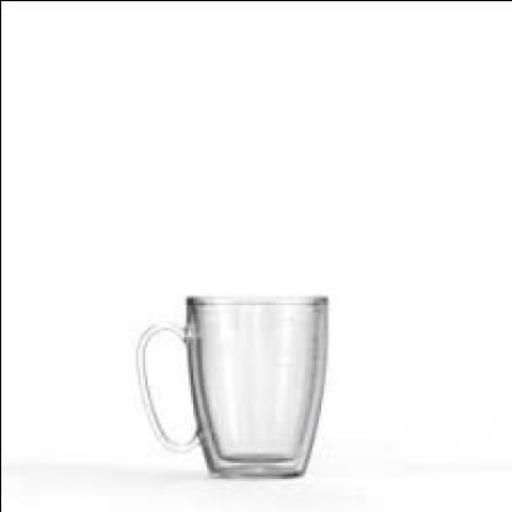glass: (133, 290, 322, 472)
